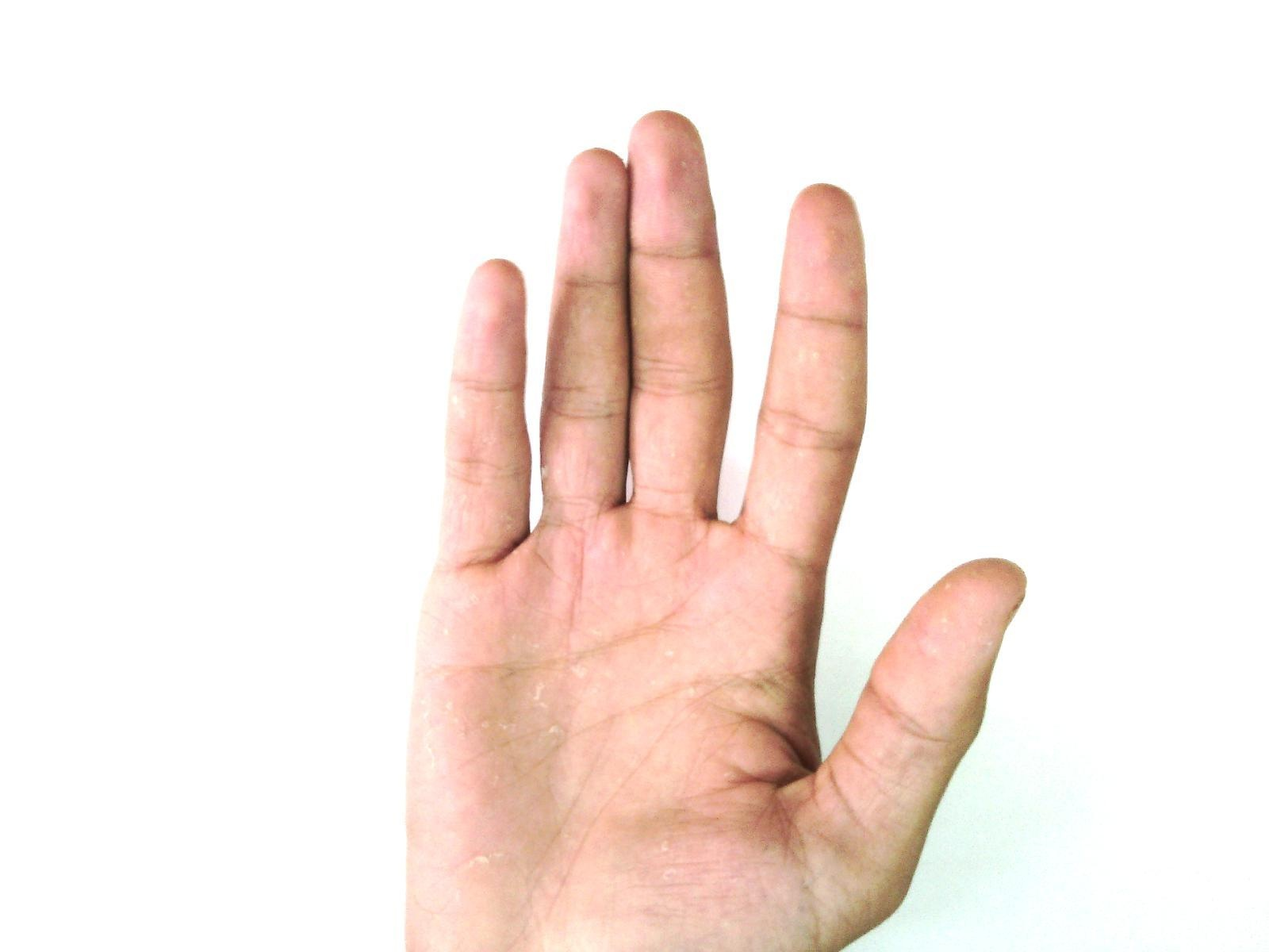open_palm: (400, 109, 1029, 952)
